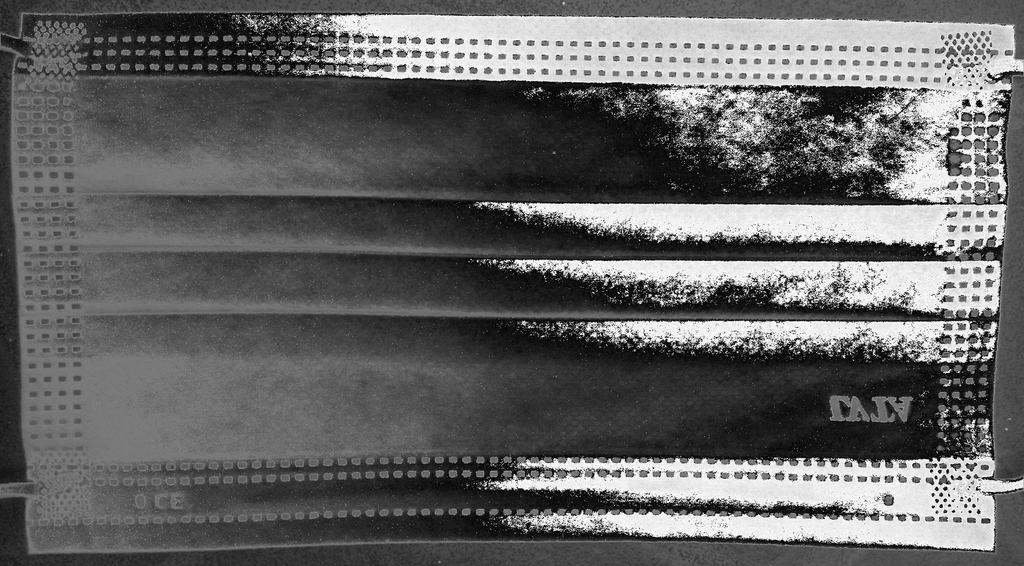High GSM: (484, 2, 1009, 559)
